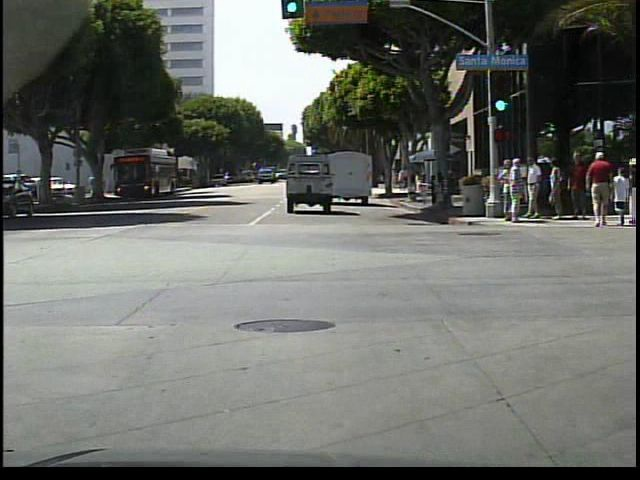person: (589, 148, 612, 231), (524, 157, 547, 228), (505, 158, 527, 226), (568, 151, 589, 220), (548, 159, 568, 225), (612, 166, 632, 226), (501, 160, 513, 224), (630, 160, 640, 226), (96, 176, 107, 201), (89, 175, 99, 198), (398, 170, 406, 193)
